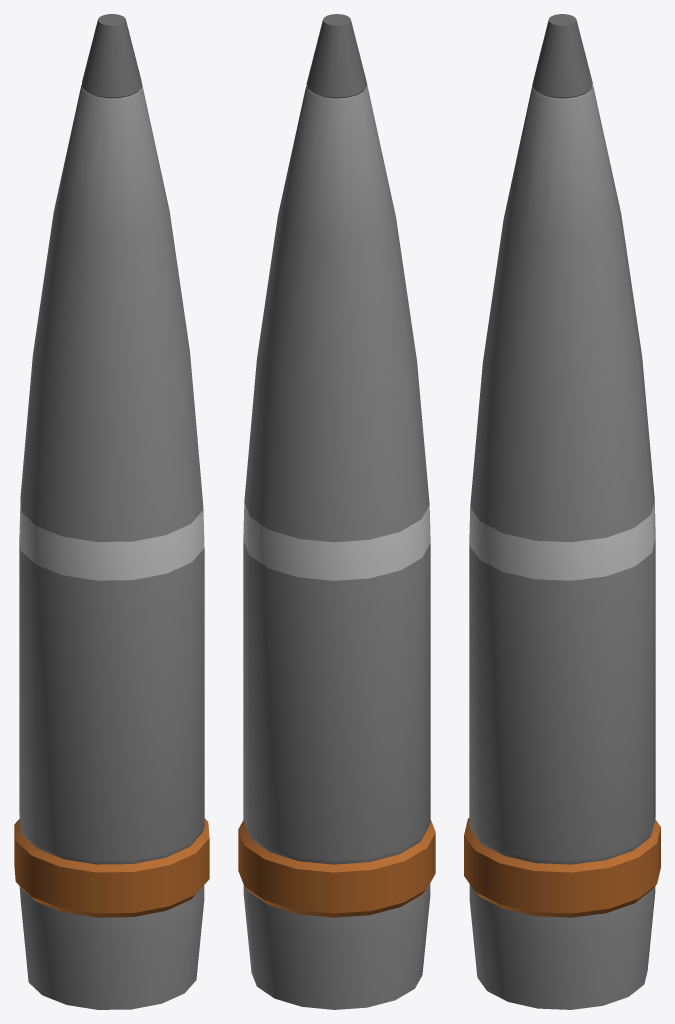
The model's file is Bullet.fbx.
3 views of the same model, side by side, from view 1: azimuth 30°, elevation 25°; view 2: azimuth 150°, elevation 25°; view 3: azimuth 270°, elevation 25° (orthographic).
Parts seen in each view (by area): view 1: Circle.014; view 2: Circle.014; view 3: Circle.014.
Part boxes in pixels (box(x1,y1,x2,y2)): Circle.014: box(14, 14, 209, 1009); Circle.014: box(238, 14, 435, 1009); Circle.014: box(464, 14, 660, 1009).
Size of the model in its own units: 46.99 by 251 by 46.99.
